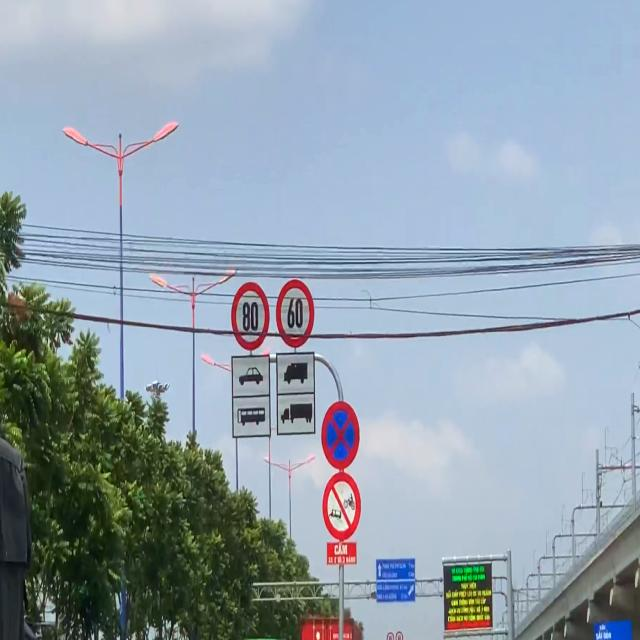Cam con lai: (323, 472, 361, 543)
Cam dung va do: (320, 399, 361, 471)
Toc do toi da: (275, 278, 316, 349), (230, 280, 270, 352)
